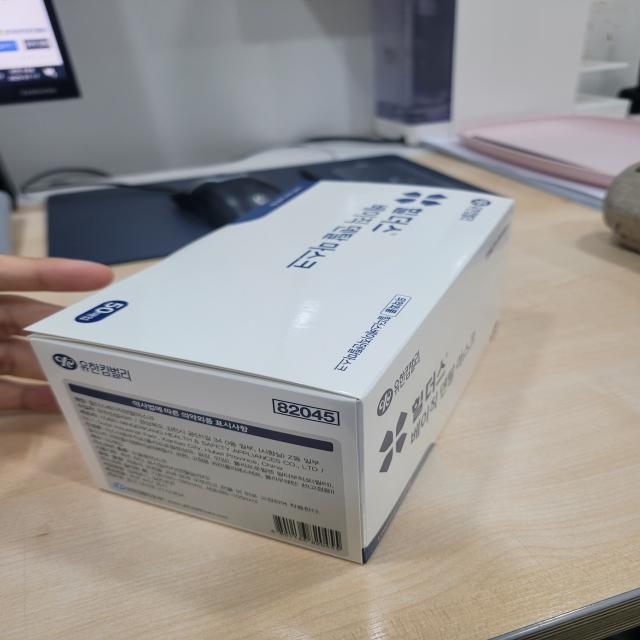mask: (35, 172, 524, 578)
